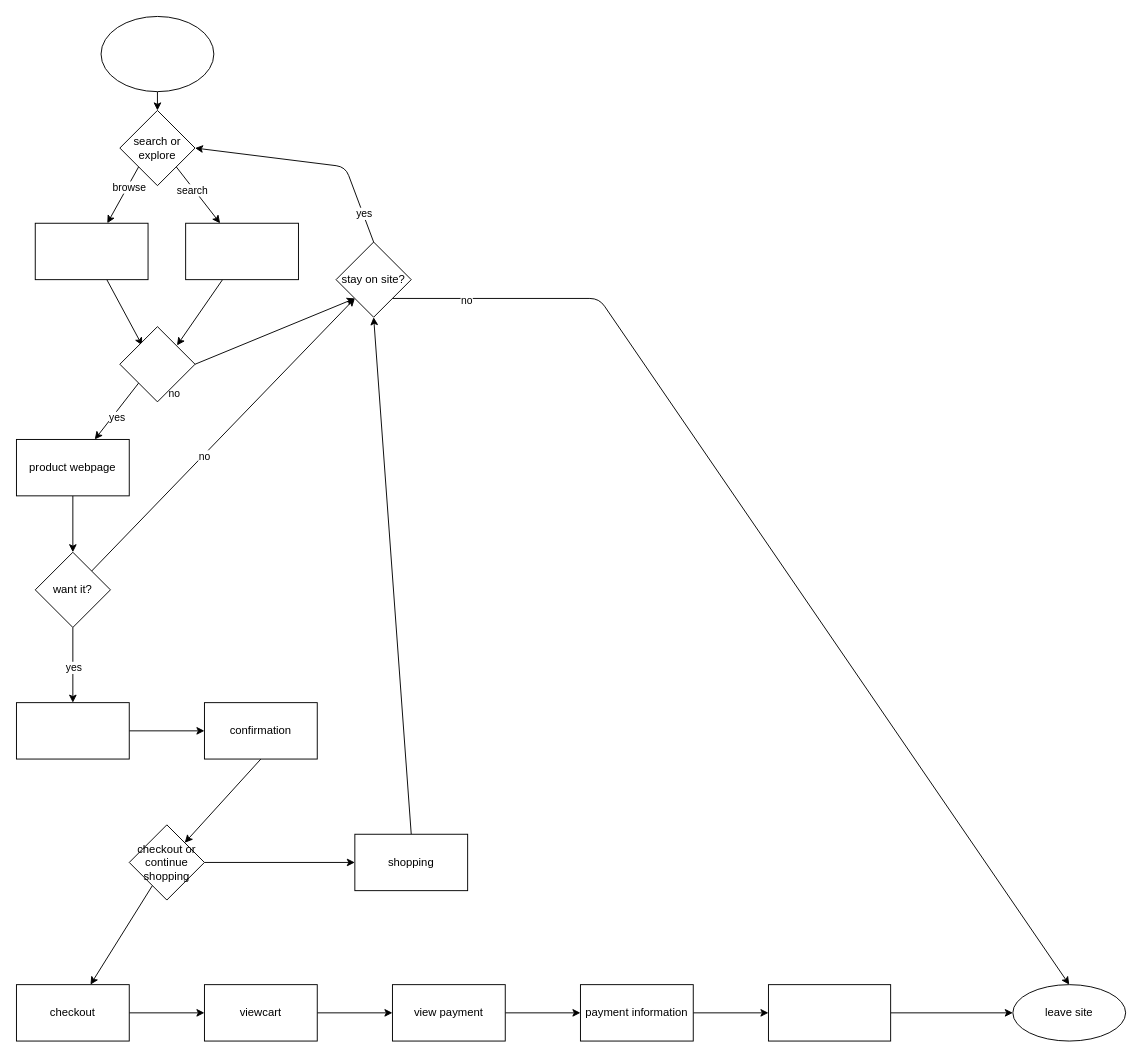
This 1142x1058 diagram has some shape labels left out. Each missing label, with the centre of its shape:
"add to cart" belongs at [72,730].
"browse homepage" belongs at [91,251].
"enter webiste" belongs at [157,54].
"interested in product?" belongs at [157,364].
"paid, confirmation screen and email" belongs at [829,1012].
"search for product, providing input to website" belongs at [241,251].
